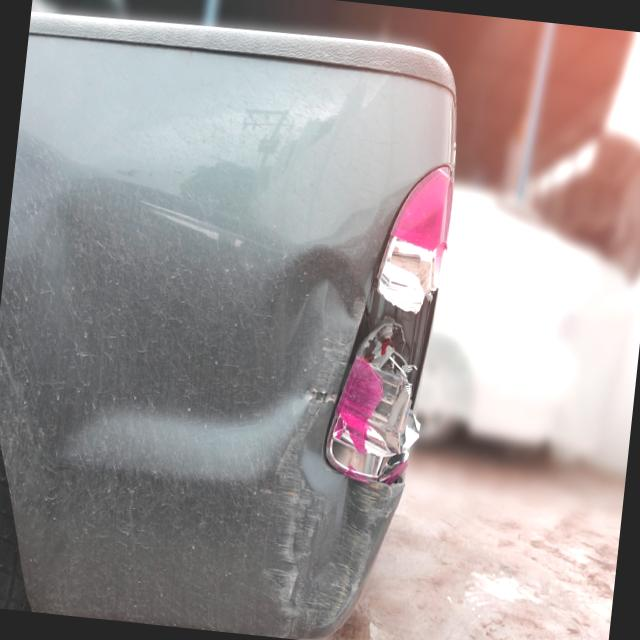Cabossage: (258, 246, 364, 444)
Phare abime: (318, 162, 462, 495)
Rayure: (241, 488, 378, 640), (145, 187, 265, 273)
